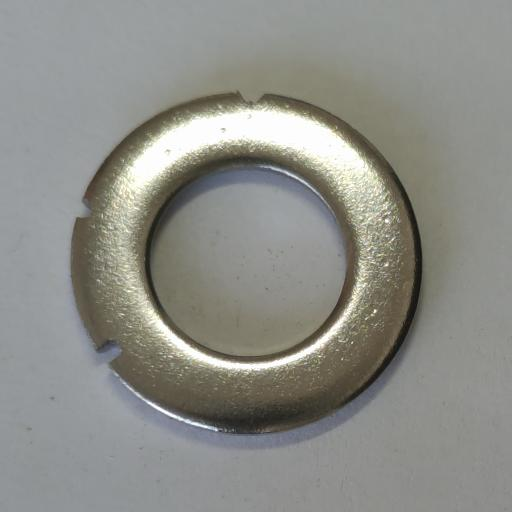burr: (93, 337, 126, 366), (235, 85, 267, 108), (72, 197, 99, 223)
